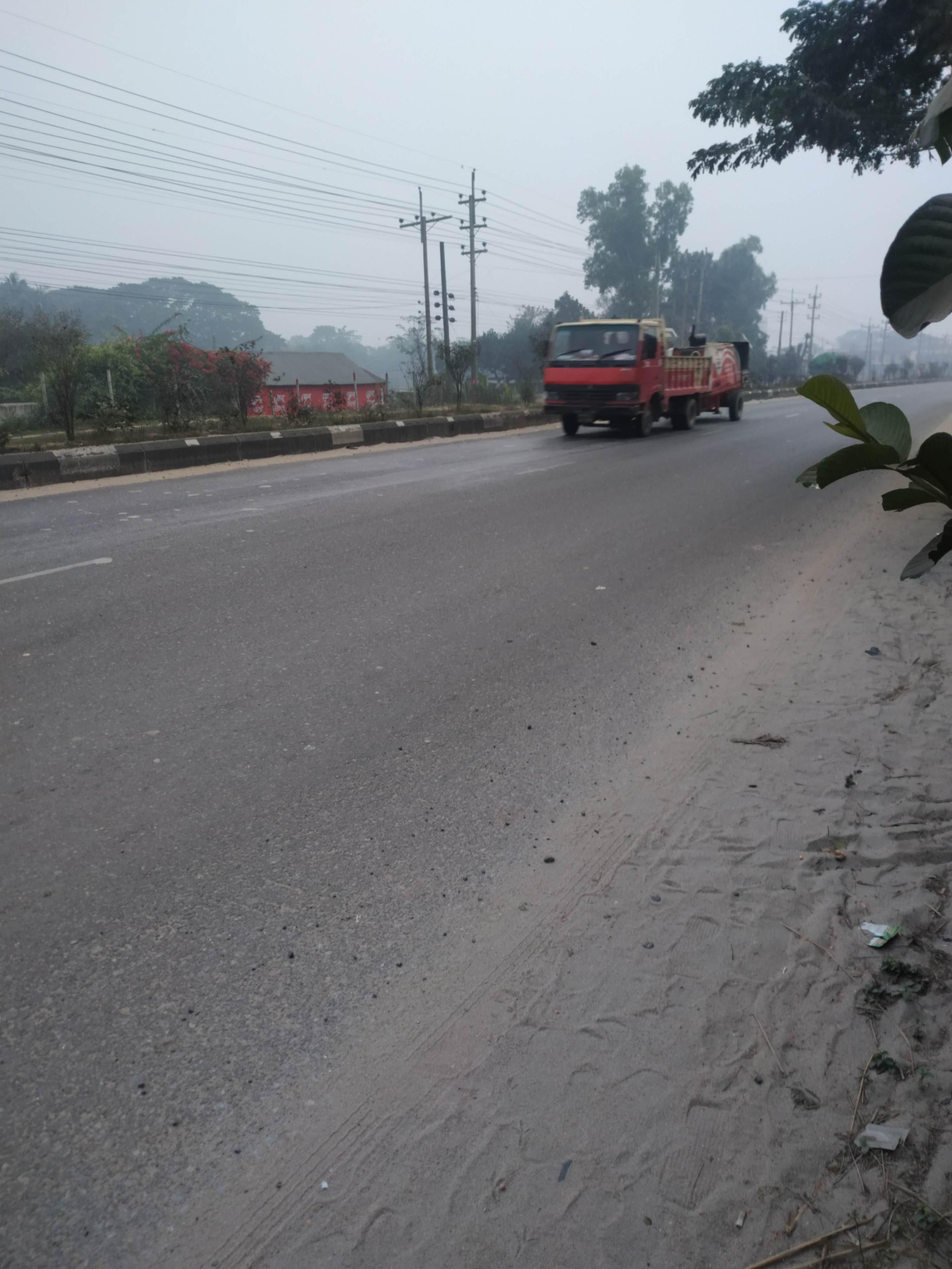Truck: (527, 276, 764, 463)
